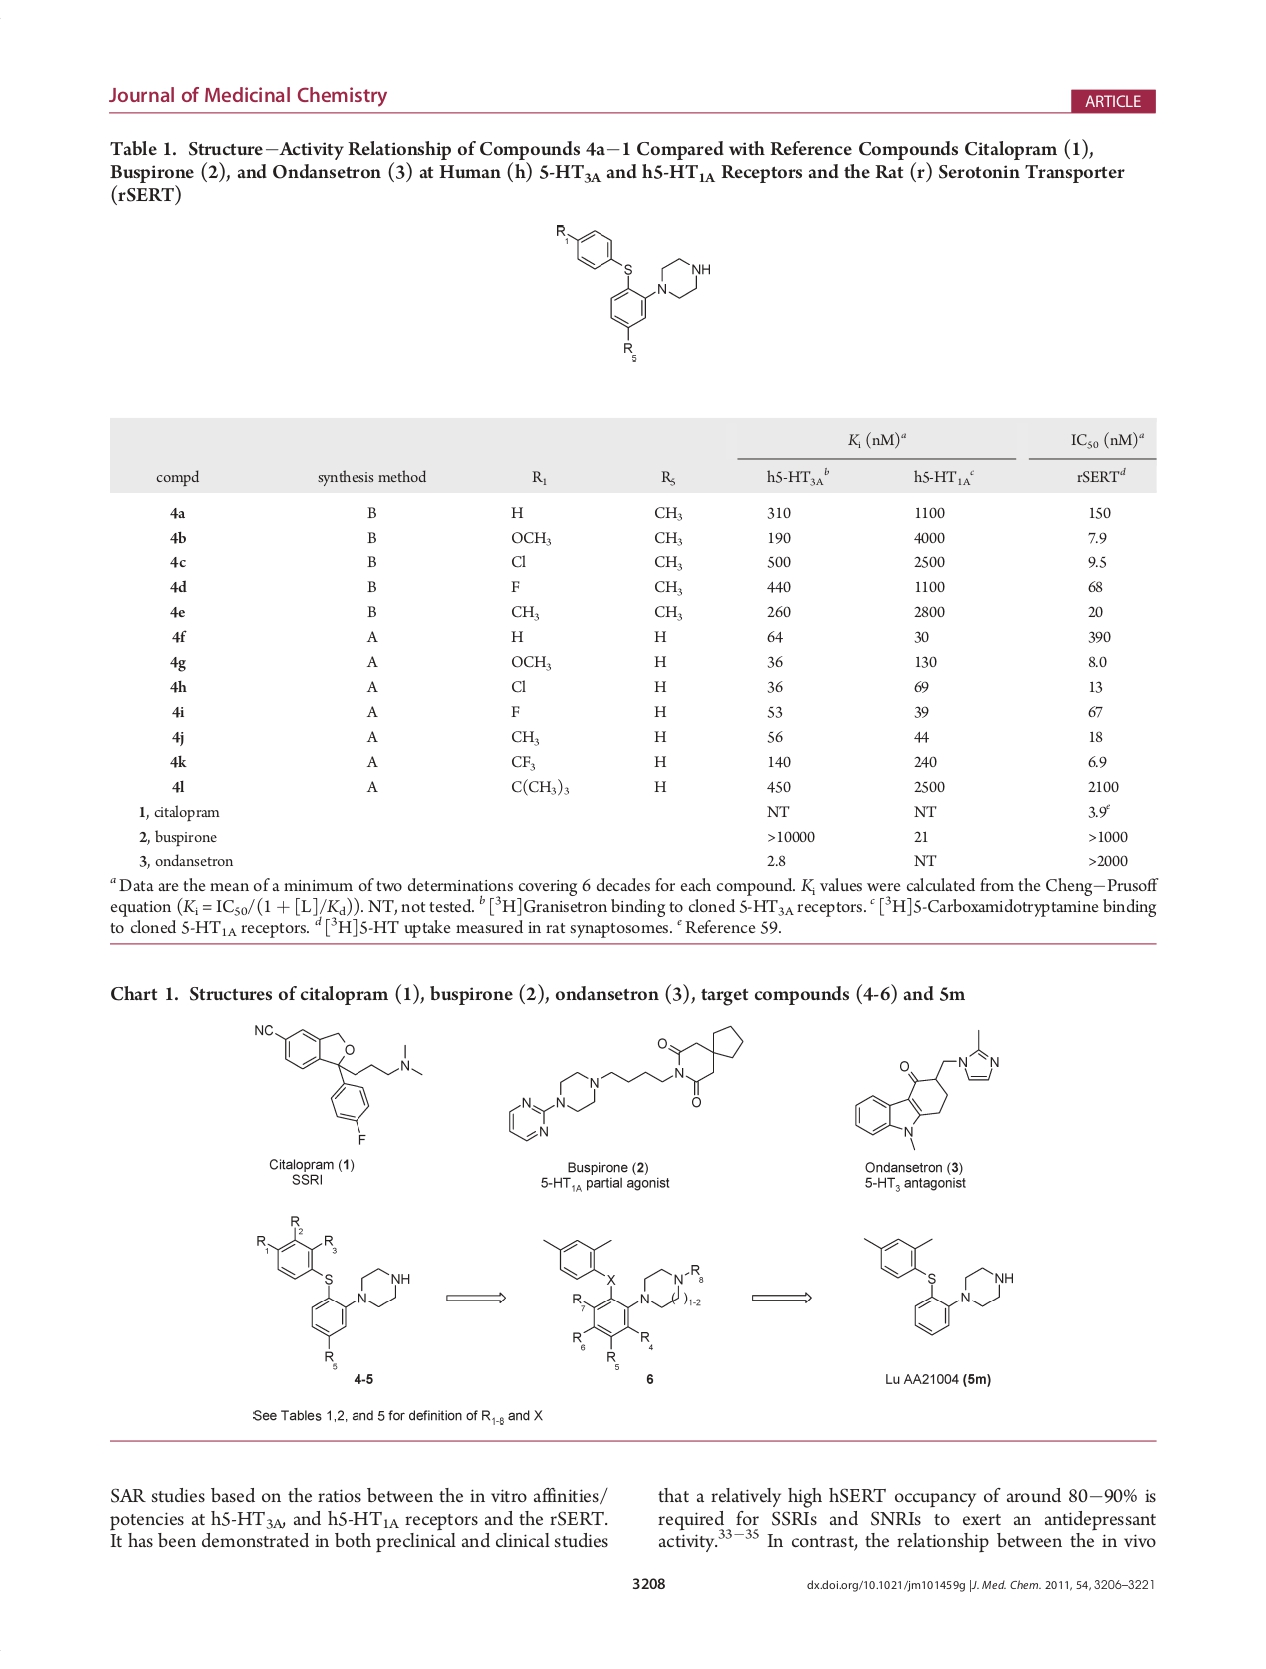exist_molecular: (504, 1021, 747, 1145), (249, 1213, 414, 1370), (543, 217, 711, 363), (537, 1231, 707, 1372), (250, 1016, 426, 1150), (848, 1027, 1001, 1152), (856, 1226, 1019, 1338)
